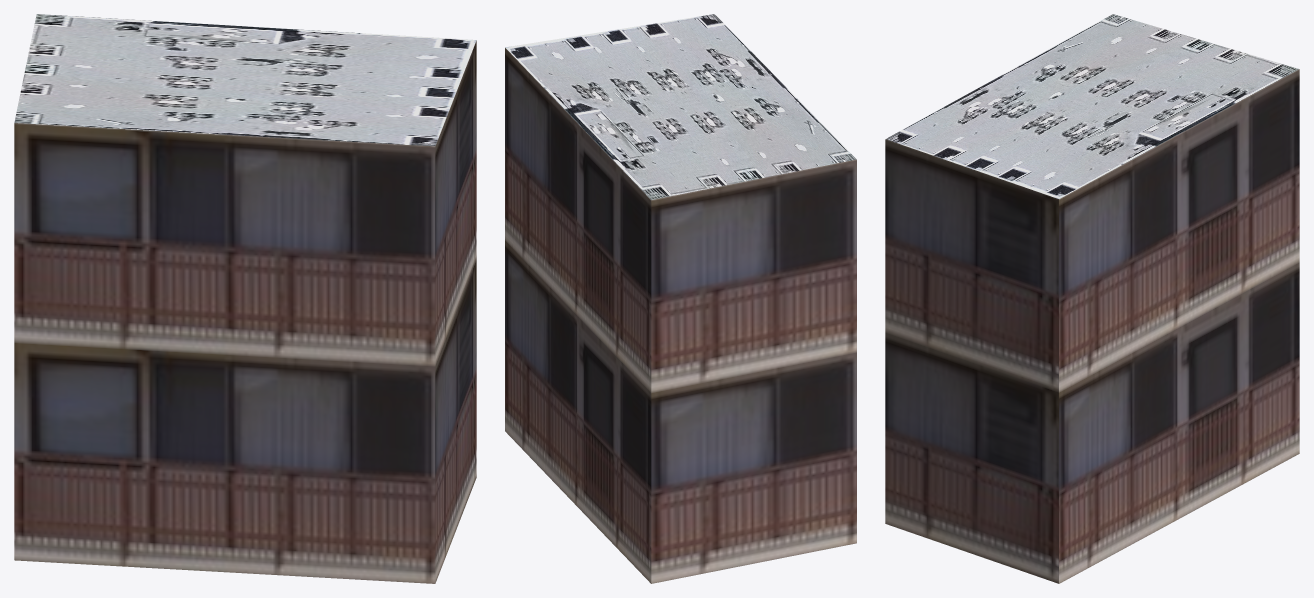
The model's file is ResTex__5135.fbx.
3 renders of one model, left to right at view 1: azimuth 30°, elevation 25°; view 2: azimuth 150°, elevation 25°; view 3: azimuth 270°, elevation 25°, orthographic. The views are drawn at different scales.
Visible parts, largest first — view 1: CityEngineMaterial_6_m, CityEngineMaterial_8_m; view 2: CityEngineMaterial_6_m, CityEngineMaterial_8_m; view 3: CityEngineMaterial_6_m, CityEngineMaterial_8_m.
Part boxes in pixels (left/top/right/bottom): CityEngineMaterial_6_m: left=14, top=40, right=476, bottom=583; CityEngineMaterial_8_m: left=14, top=14, right=476, bottom=146; CityEngineMaterial_6_m: left=505, top=48, right=856, bottom=583; CityEngineMaterial_8_m: left=505, top=14, right=856, bottom=199; CityEngineMaterial_6_m: left=885, top=69, right=1299, bottom=583; CityEngineMaterial_8_m: left=885, top=14, right=1298, bottom=198.
Bounding box in the file's own units: 6.2 × 6 × 5.85.
2 materials, 2 textured.
